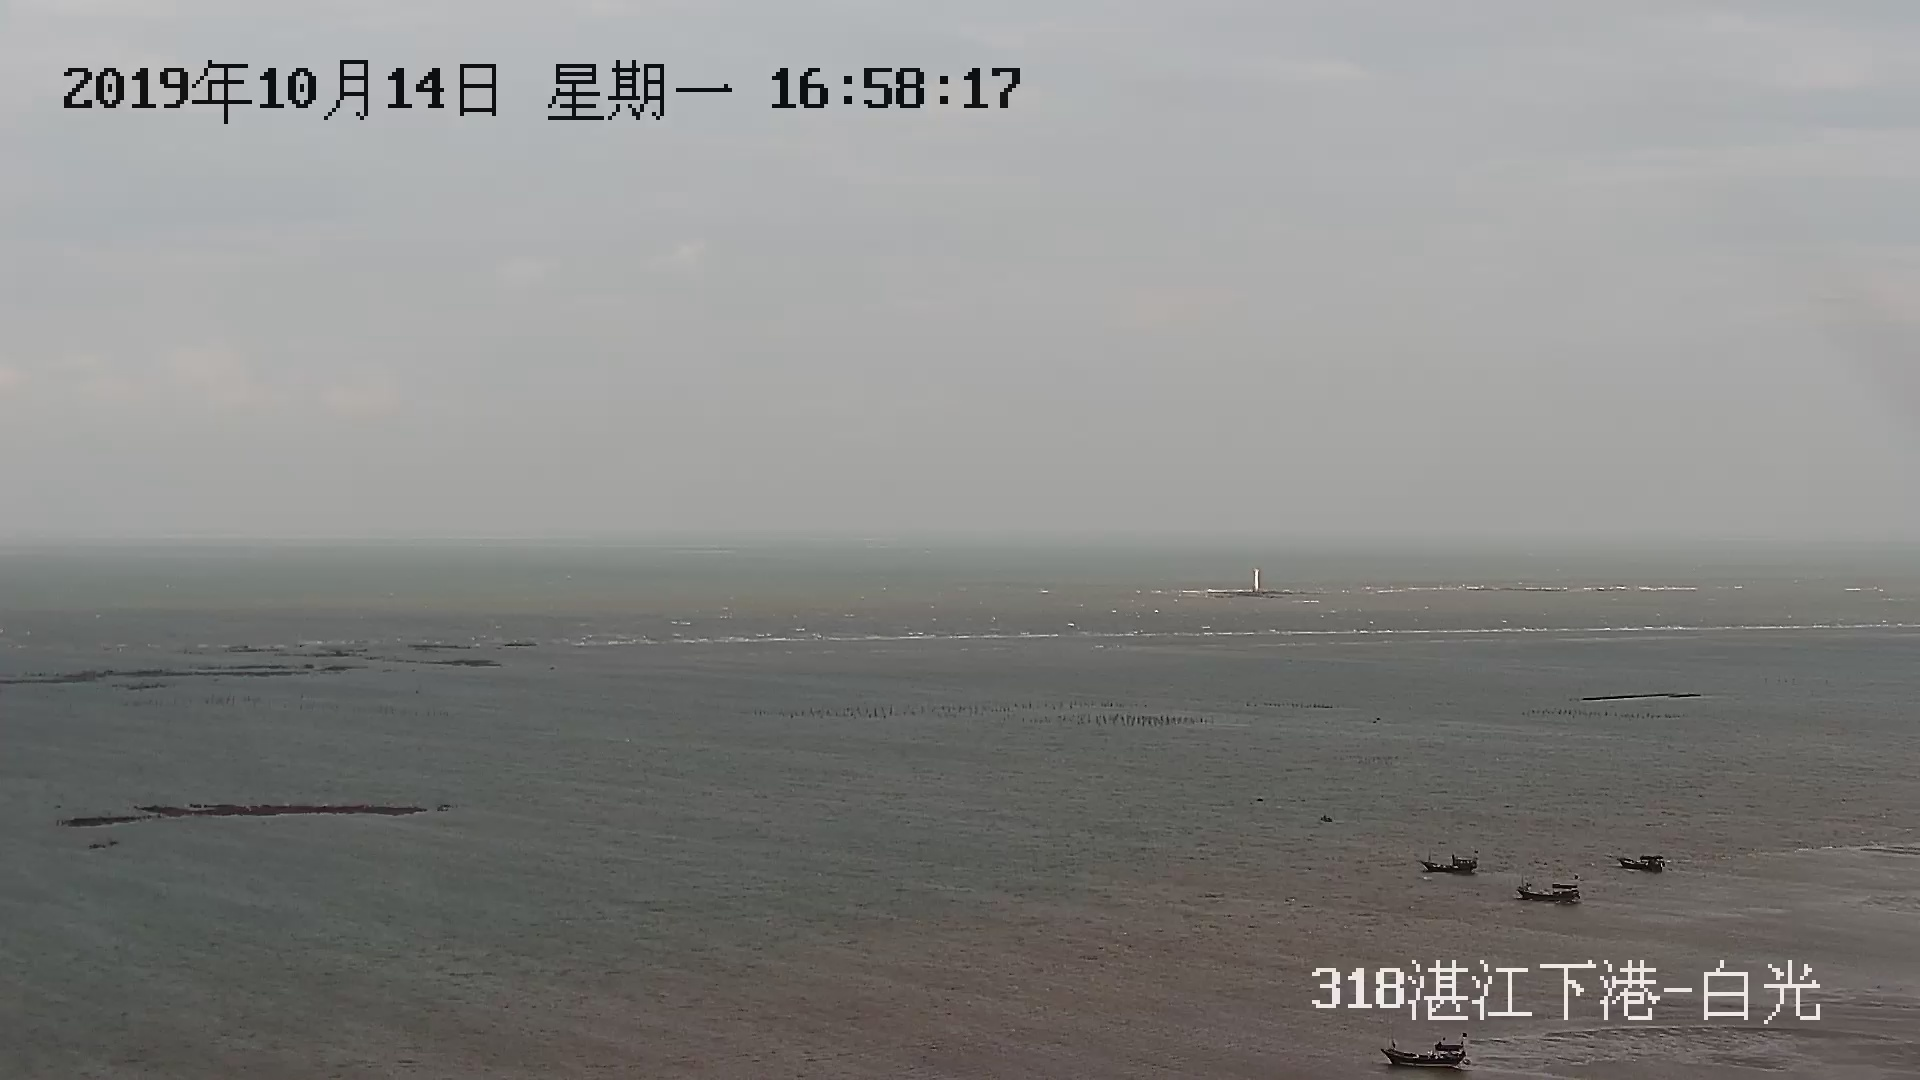ship: (1381, 986, 1472, 1069), (1381, 1029, 1469, 1069), (1516, 880, 1582, 905), (1418, 851, 1480, 877), (1619, 849, 1665, 880)
